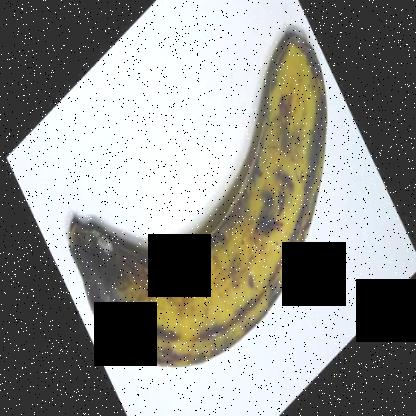overripe: (58, 10, 330, 376)
rotten: (47, 213, 153, 355)
